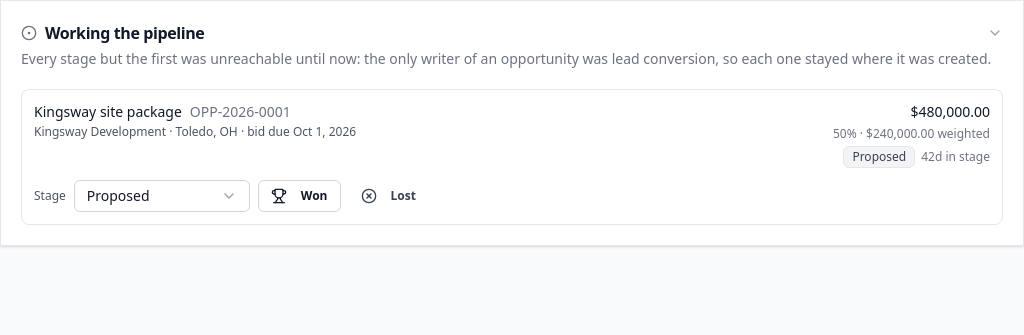
Test: the pipeline board › says what the database refused
Click the button "Won" at (299, 196), box x1=258 y1=180 x2=340 y2=212
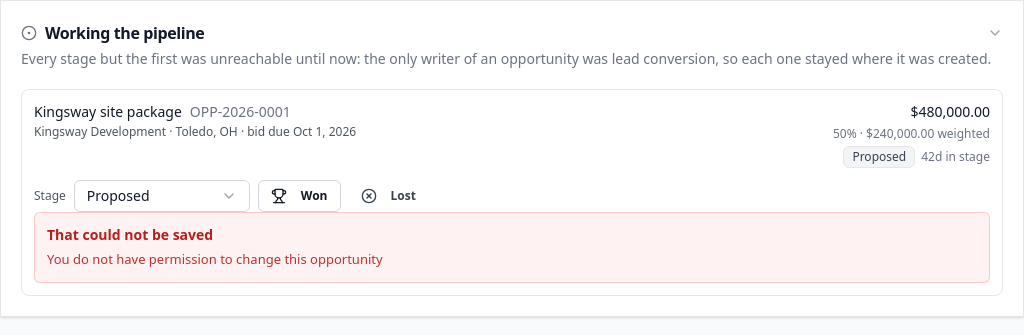
Expected: the text "You do not have permission to change this opportunity" is shown, x1=47 y1=249 x2=383 y2=270
